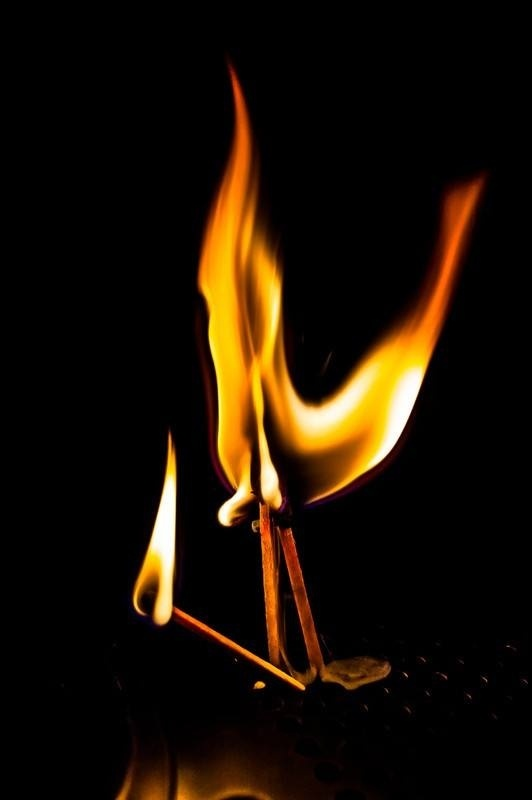fire: (189, 36, 486, 570)
